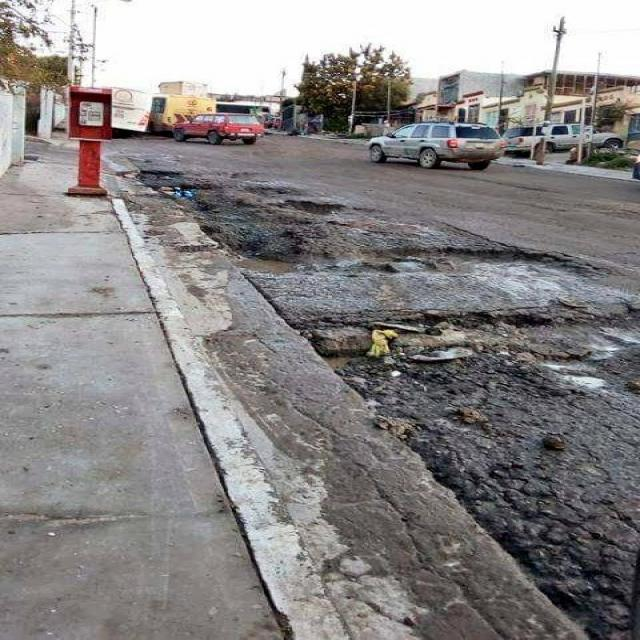Pothole: (125, 167, 640, 472)
